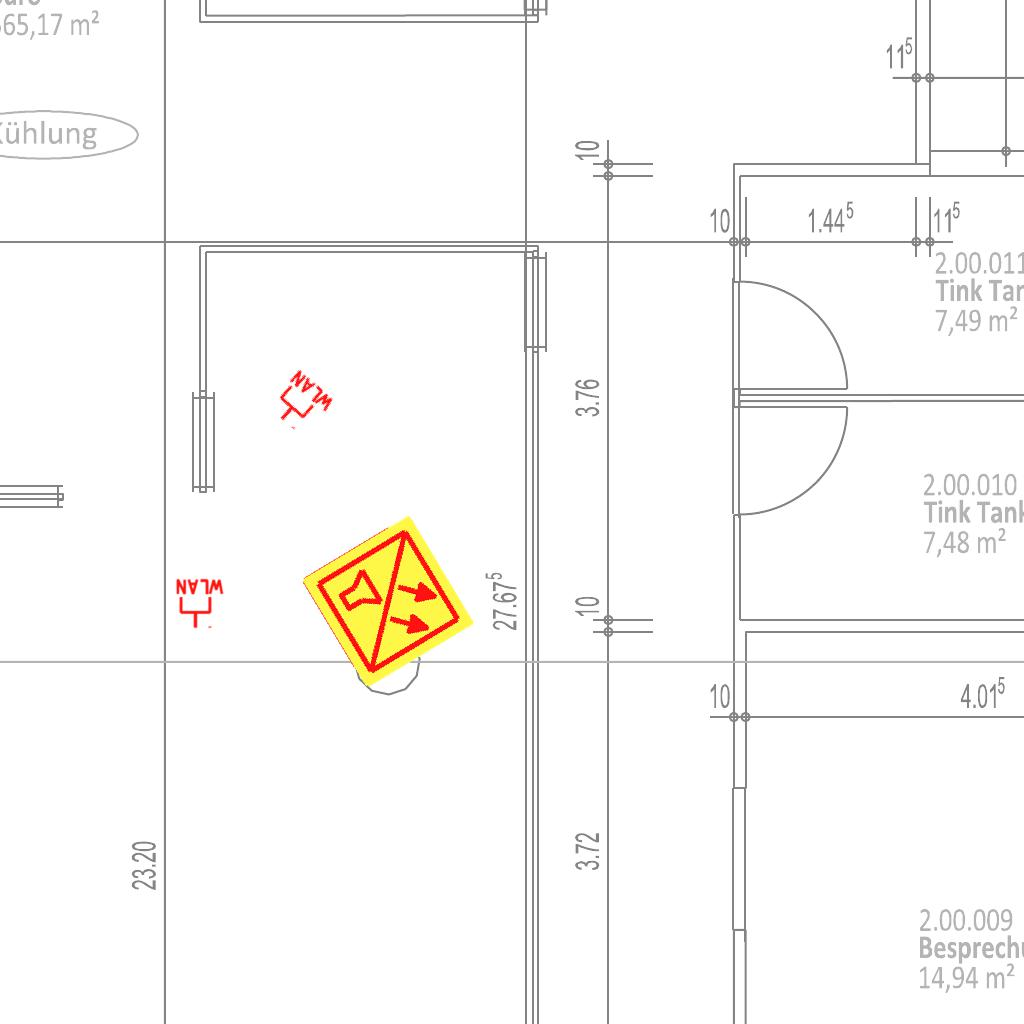OKW_Multisensormelder_(Kombination_optischer_Rauch-Kahlenmonoxid_Waerme-Melder): (297, 511, 479, 693)
WLAN: (264, 367, 338, 441), (174, 578, 226, 630)
